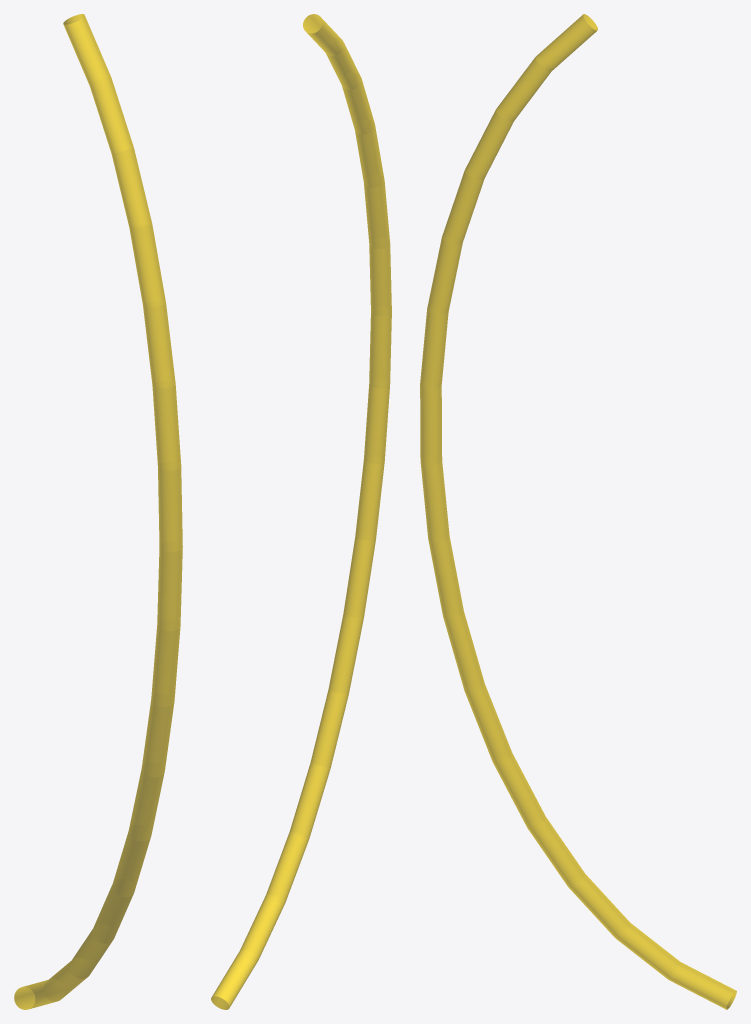
The model's file is Event_17758602_track_171.fbx.
3 views of the same model, side by side, from view 1: azimuth 30°, elevation 25°; view 2: azimuth 150°, elevation 25°; view 3: azimuth 270°, elevation 25° (orthographic). The views are drawn at different scales.
Parts seen in each view (by area): view 1: Model; view 2: Model; view 3: Model.
Boxes of the visible parts, x1=… form: Model: x1=14, y1=14, x2=182, y2=1009; Model: x1=211, y1=14, x2=391, y2=1009; Model: x1=420, y1=14, x2=736, y2=1009.
Bounding box in the file's own units: 0.093 × 2 × 0.5842.
